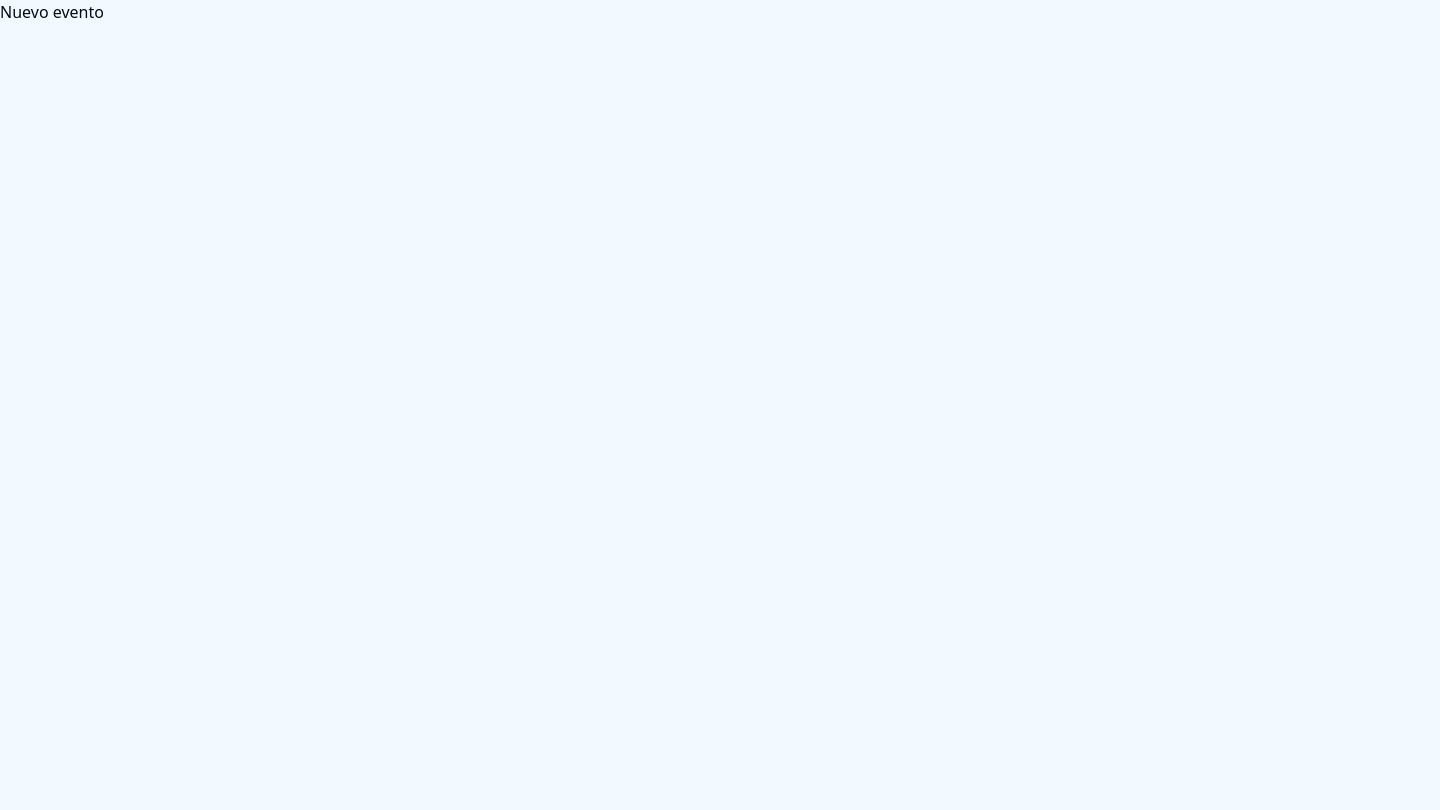
Test: EventFormModal › resets form when cancel button is clicked
Step 1. Click the button "Nuevo evento" → (52, 12), box [0, 0, 104, 24]
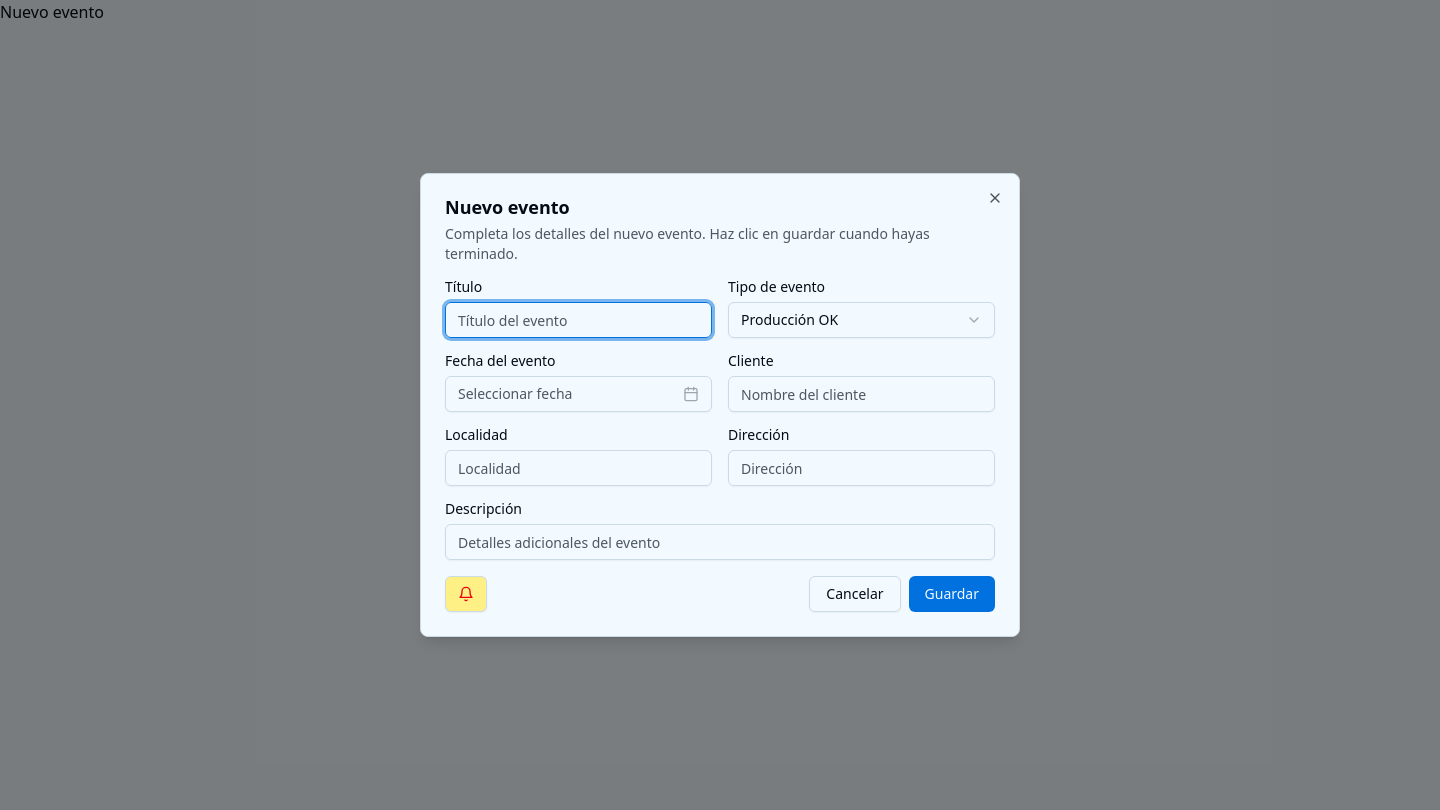
// Fill form
Step 2. Type "Test Event" into the field with placeholder "Título del evento" → (578, 320), box [445, 302, 712, 338]
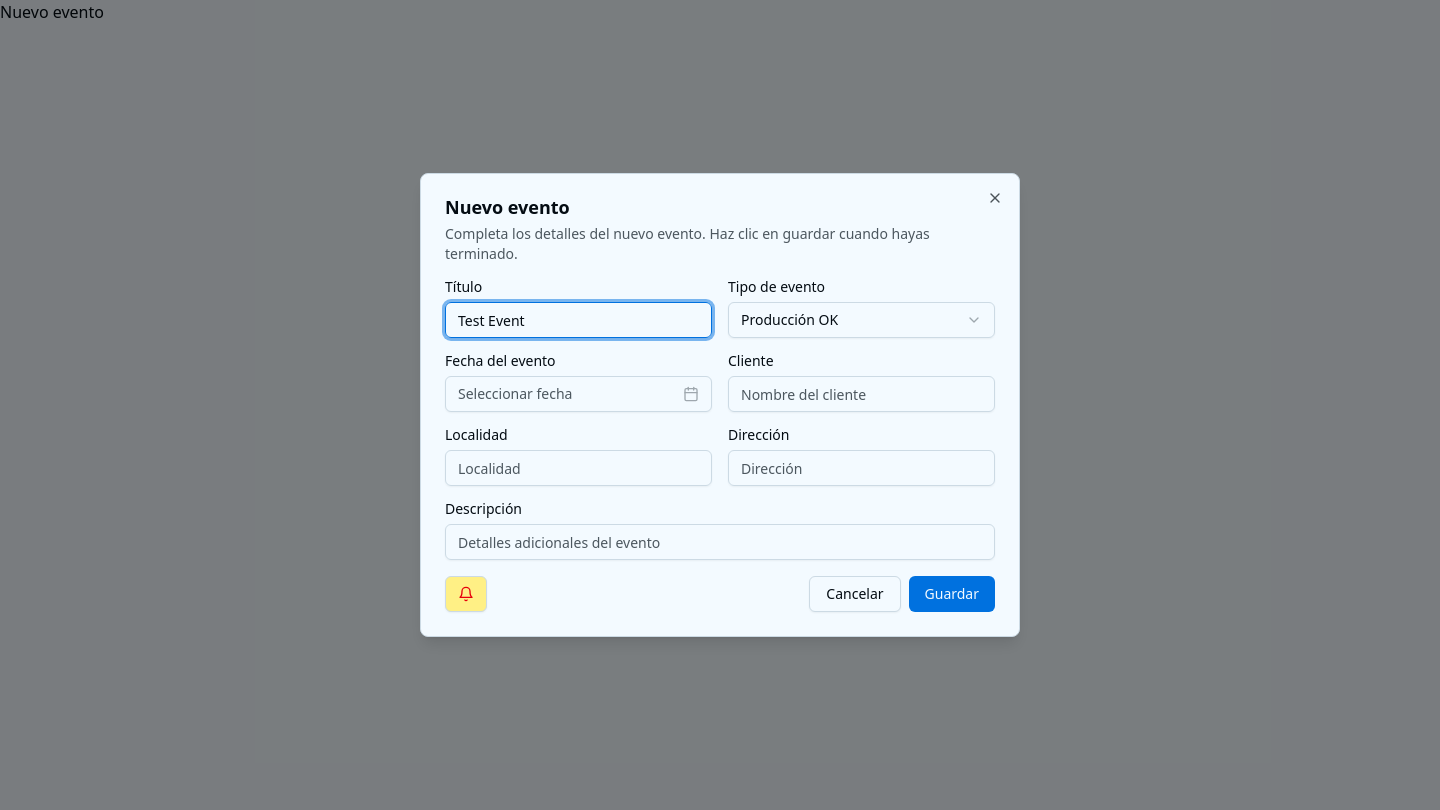
// Click cancel
Step 3. Click the button "Cancelar" → (855, 594), box [809, 576, 900, 612]
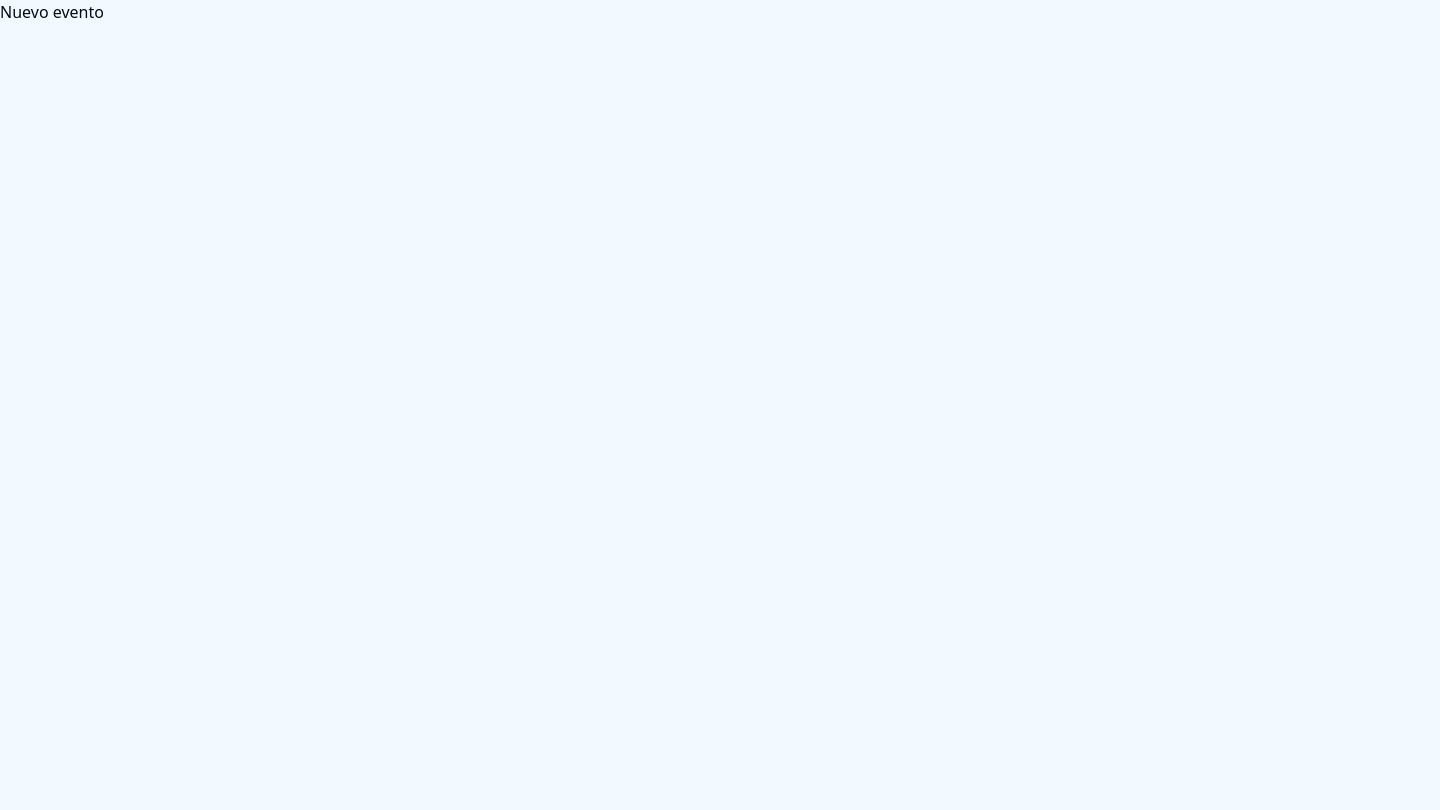
// Reopen modal
Step 4. Click the button "Nuevo evento" → (52, 12), box [0, 0, 104, 24]
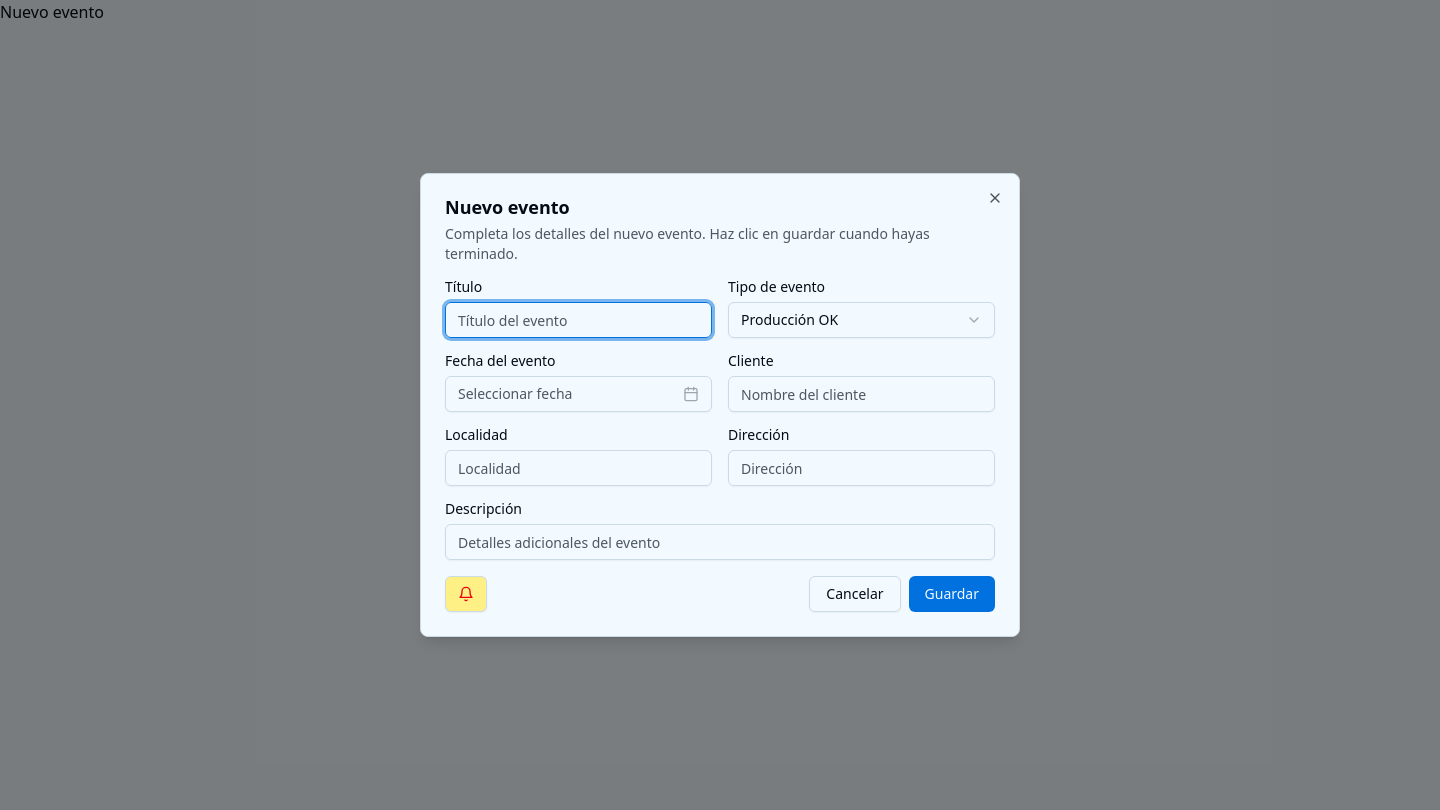
Now the field with placeholder "Título del evento" is empty, box [445, 302, 712, 338]
